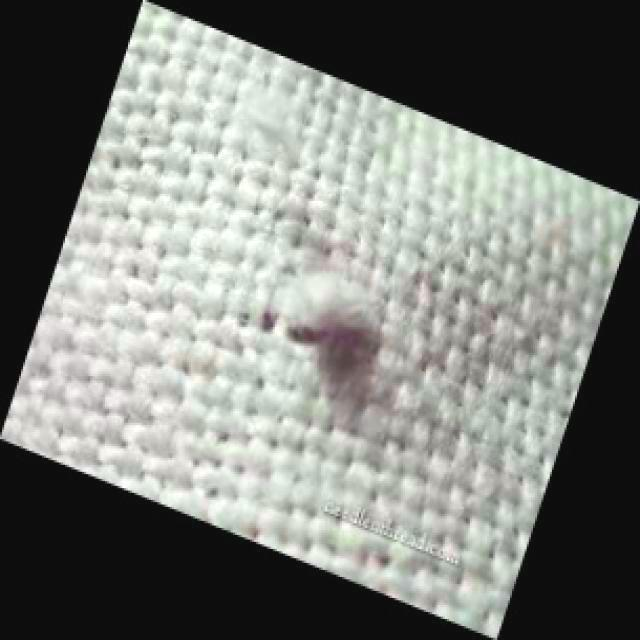stains: (176, 210, 474, 456)
